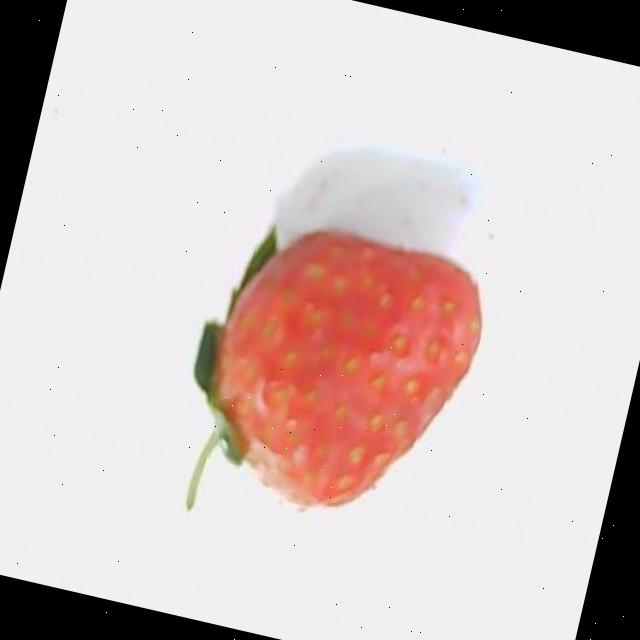strawberry: (187, 230, 480, 509)
